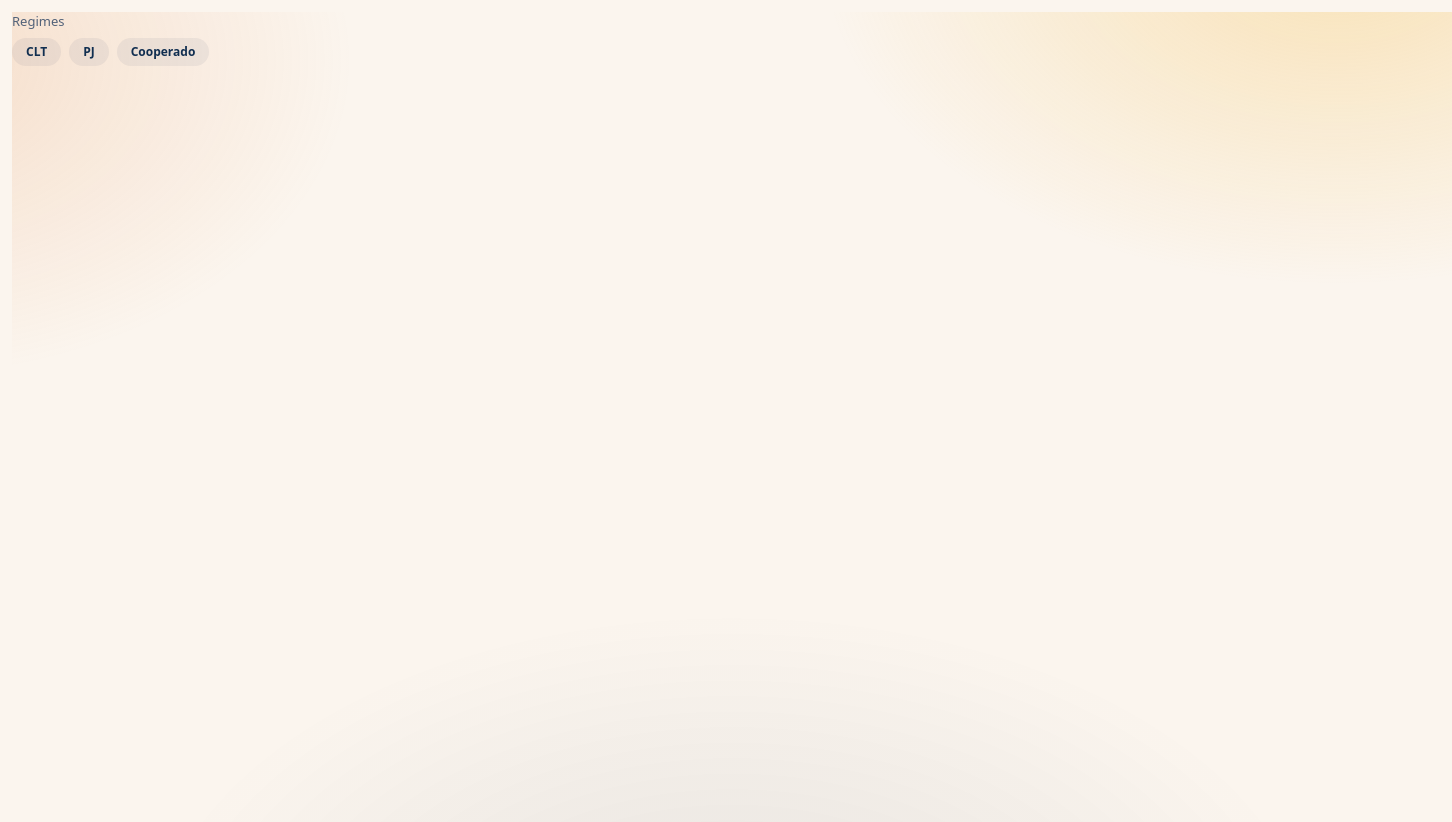
Scenario: ChipGroup › respeita o limite máximo, mas deixa desmarcar
Click the button "CLT": (37, 52) top-left (12, 38), bottom-right (61, 66)
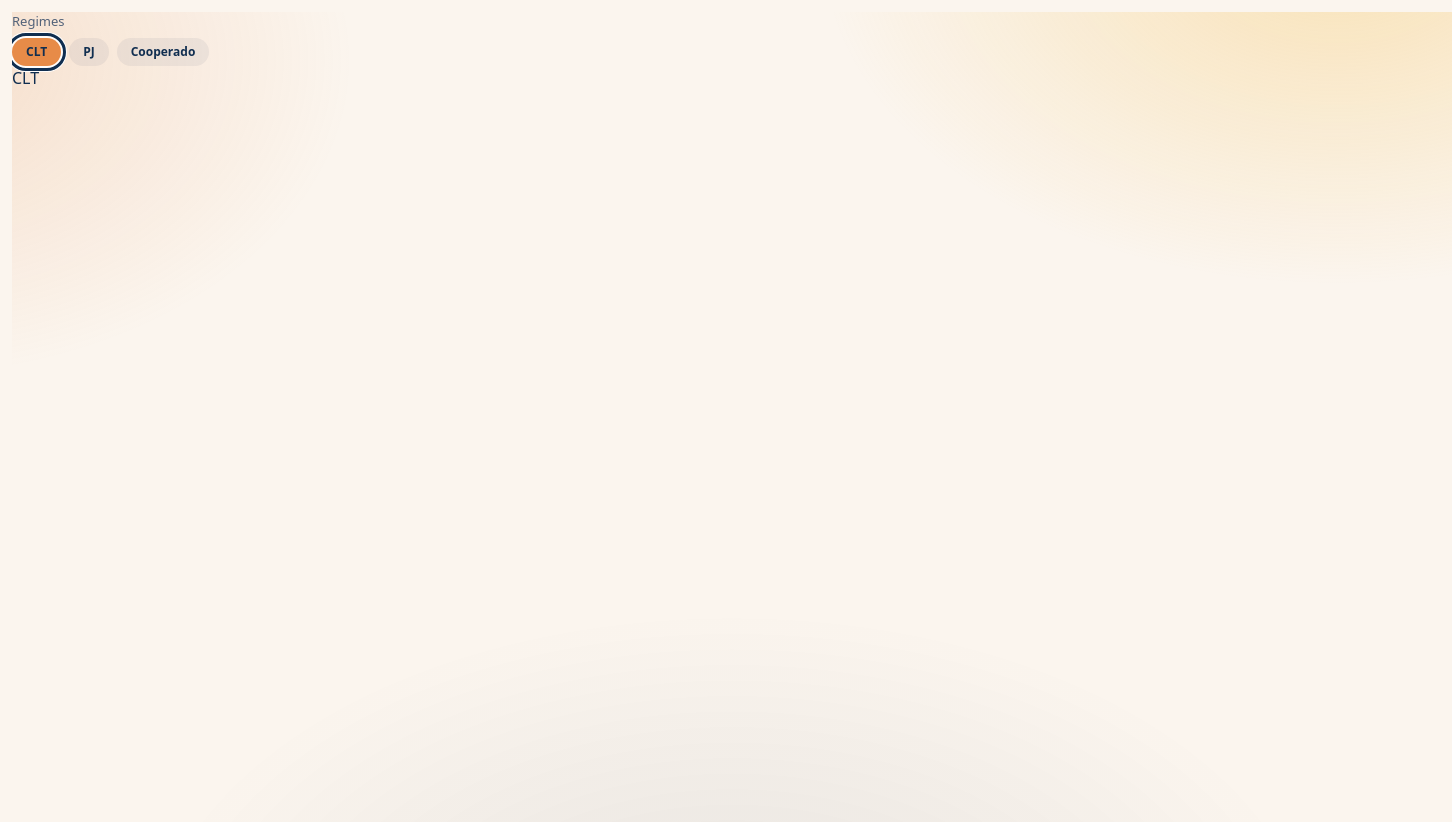
Click the button "PJ": (89, 52) top-left (69, 38), bottom-right (109, 66)
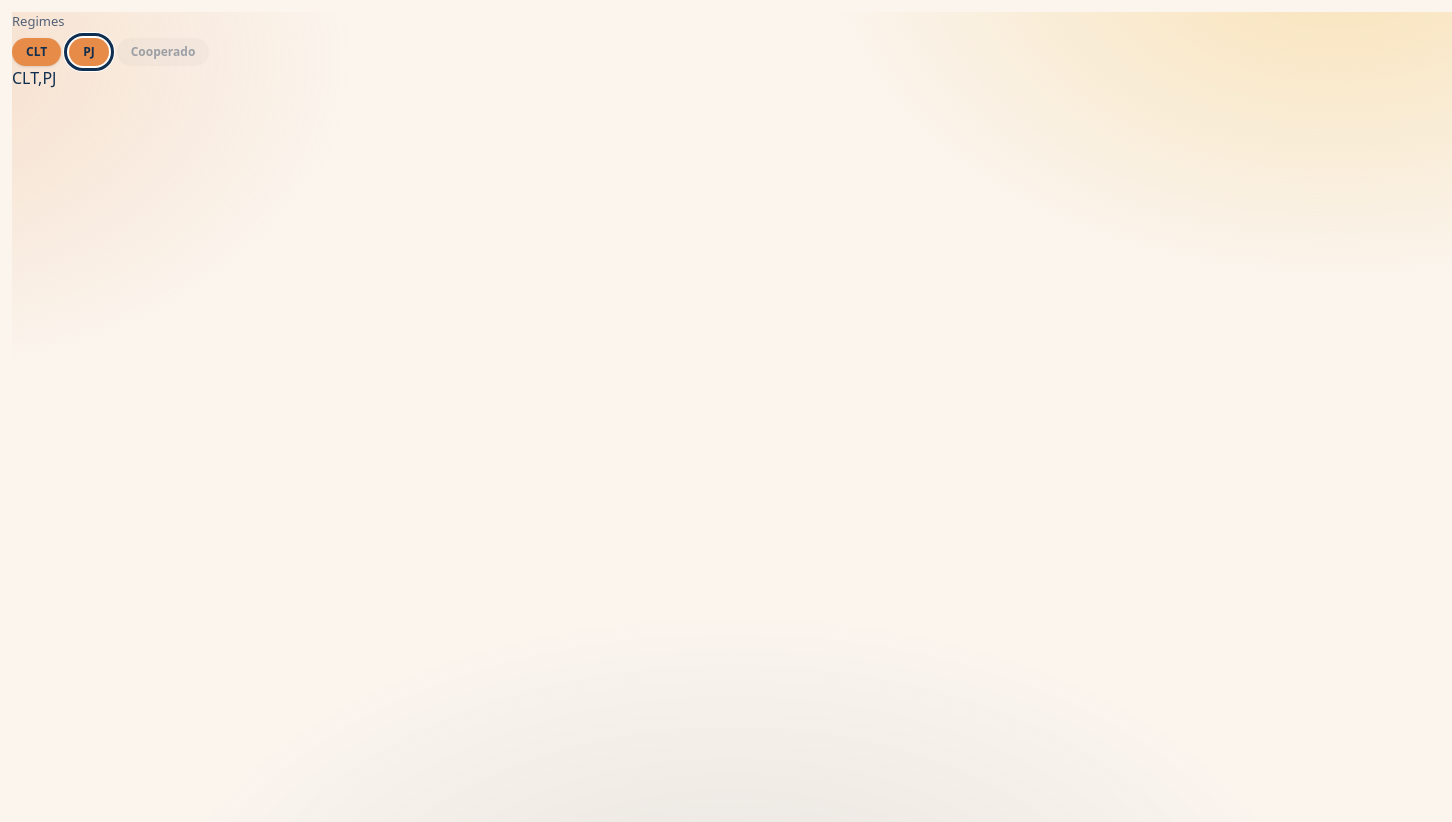
Now the button "Cooperado" is disabled, box top-left (117, 38), bottom-right (209, 66)
Click the button "PJ": (89, 52) top-left (69, 38), bottom-right (109, 66)
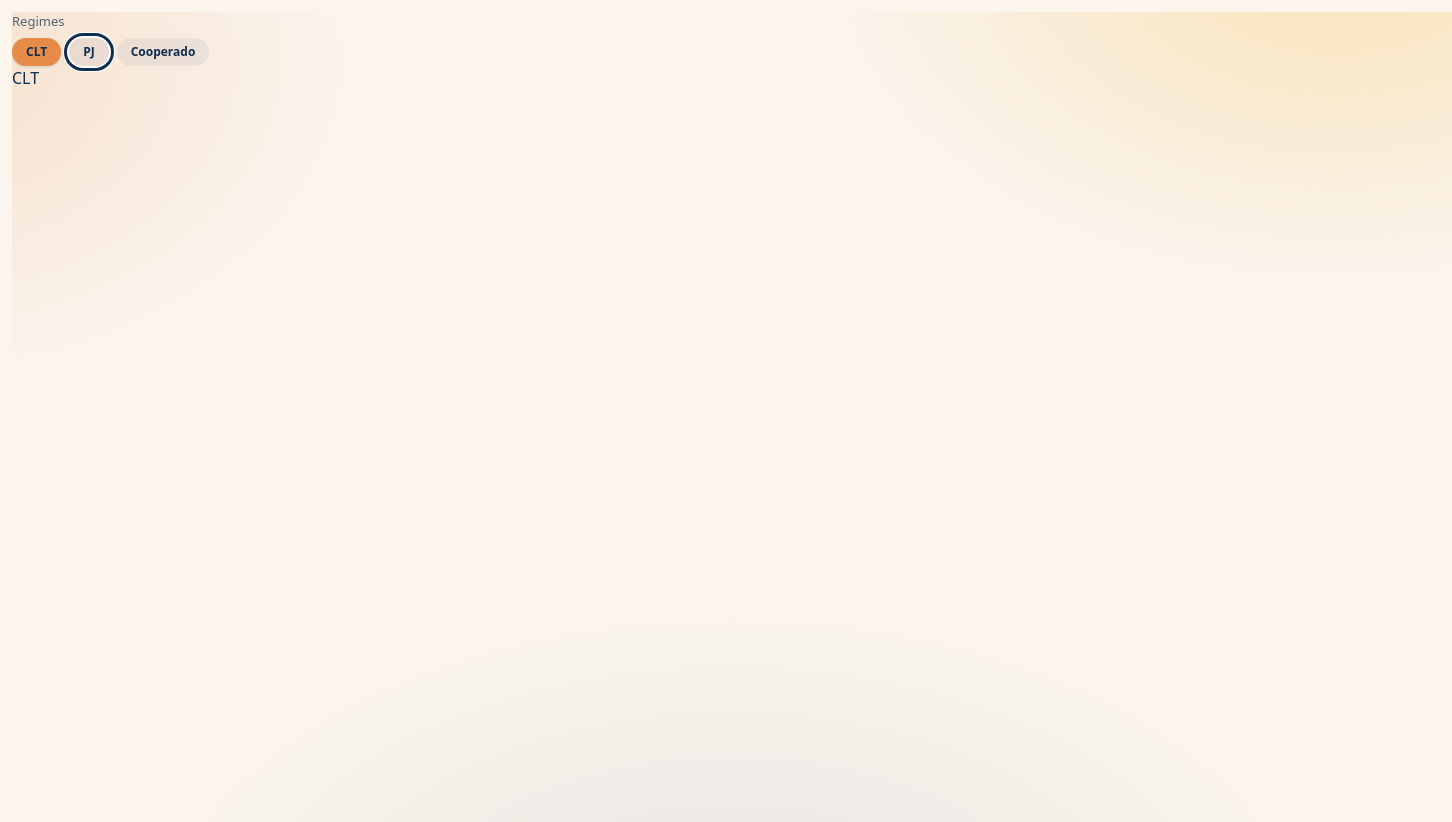
Now the button "Cooperado" is enabled, box top-left (117, 38), bottom-right (209, 66)
